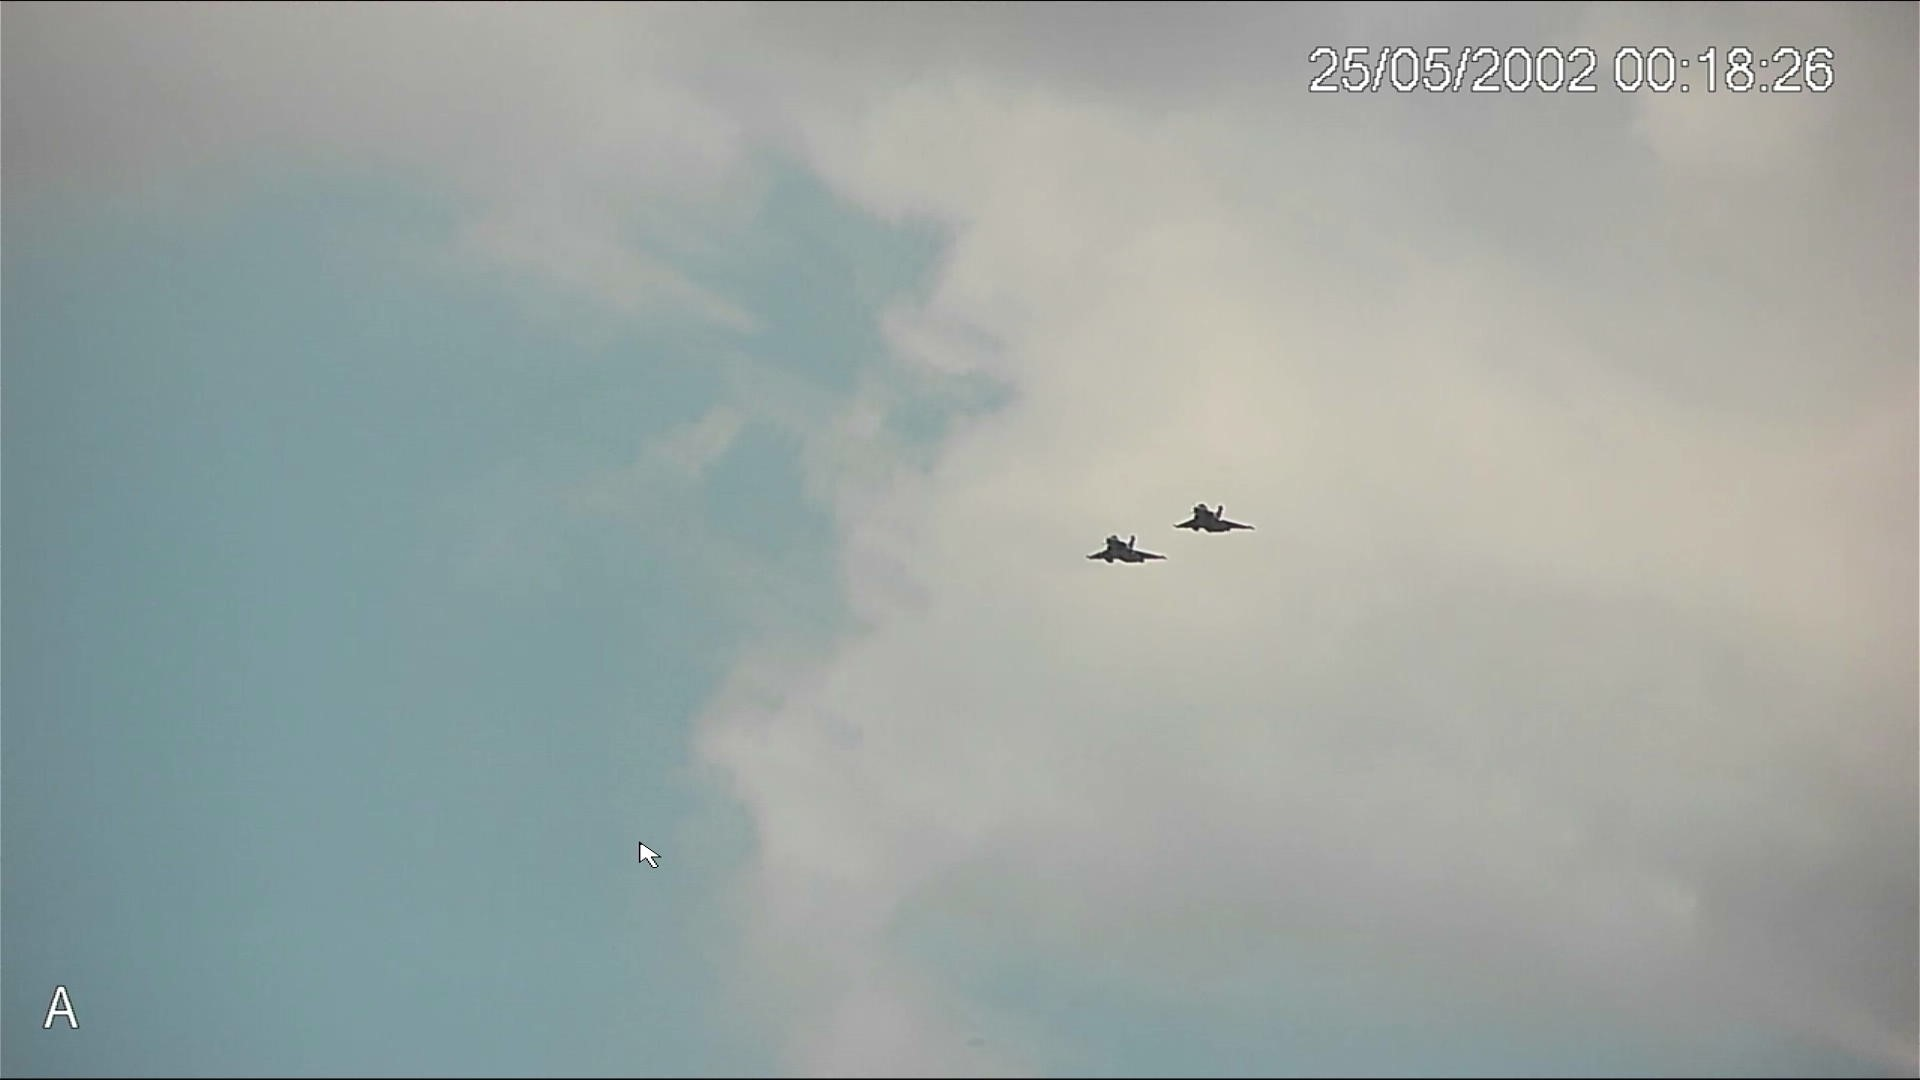SU_30: (1174, 504, 1257, 538), (1084, 535, 1167, 567)
